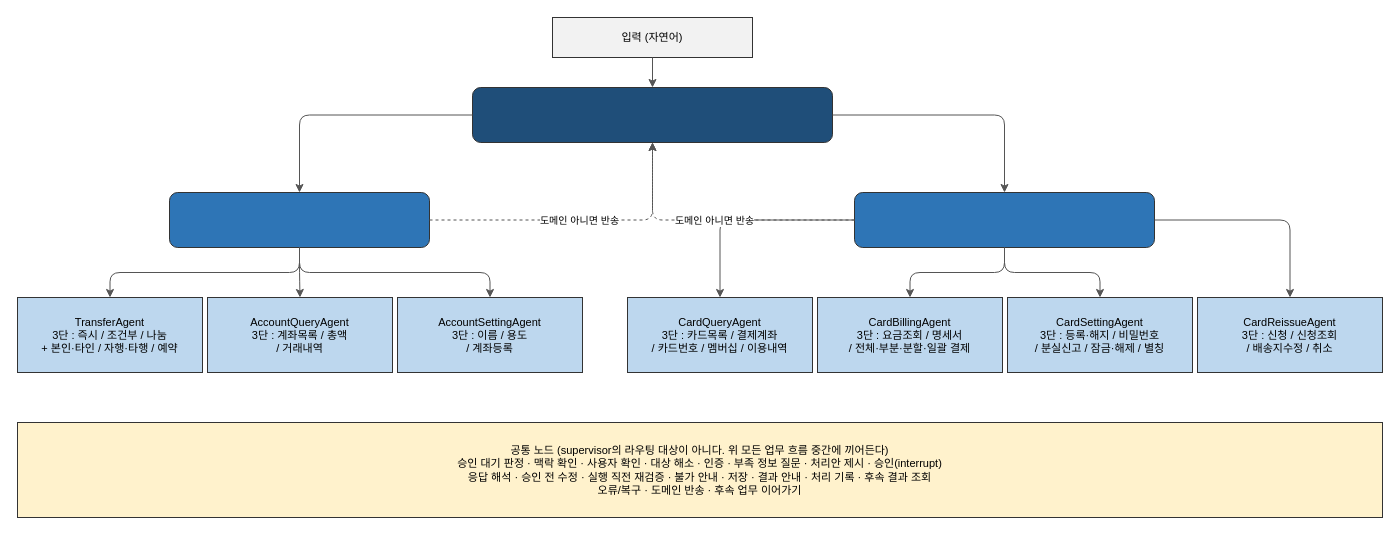
Some shapes in this 1400 by 535 pixel diagram are drawn without their labels. Here are the shapes that lost their labels. From the top down, the centre of each, then its label:
the point at 652,114: Virtual_Bank_Supervisor_Agent 1단 분류 : 계좌 / 카드
the point at 299,220: AccountAgent 2단 : 이체 / 조회 / 설정
the point at 1004,220: CardAgent 2단 : 조회 / 결제 / 설정 / 재발급
